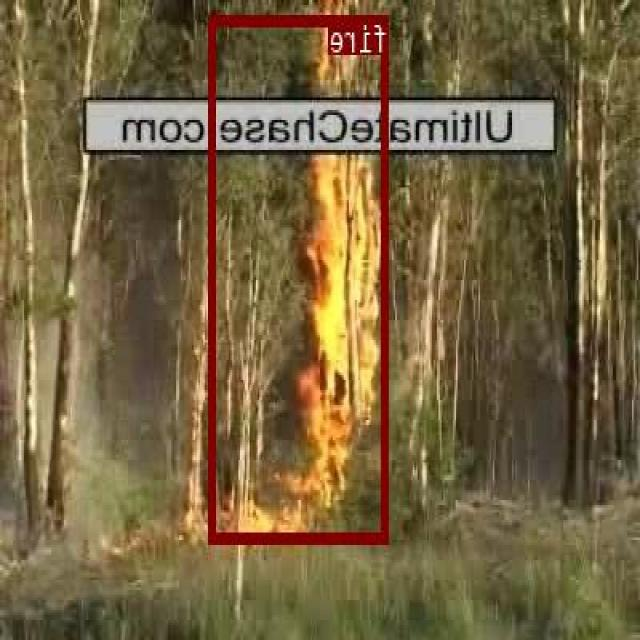fire: (211, 13, 390, 541)
